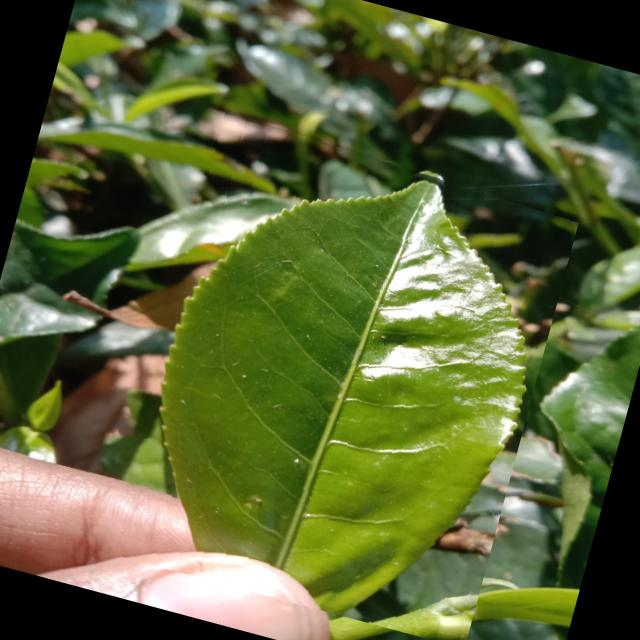Category B(2-4 days): (95, 107, 583, 640)
